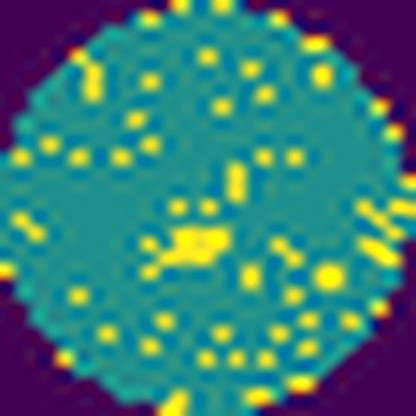Center: (141, 223, 235, 285)
